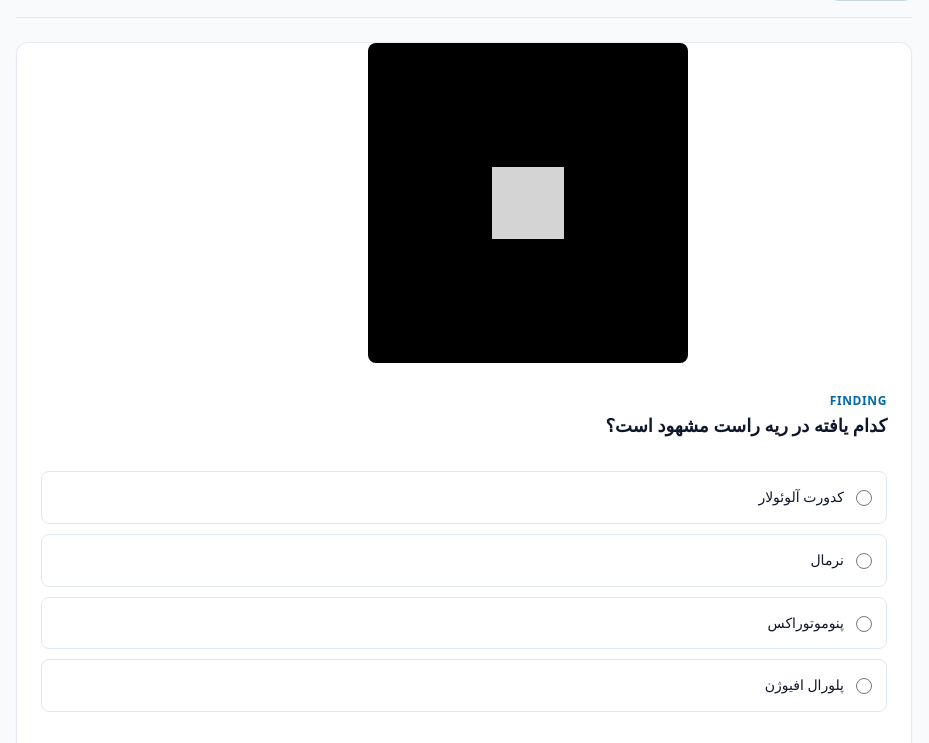
Test: Practice Pages & Workflows (T09b) › PracticeSetPage › supports radio selection, submitting answer, and displaying rationale
Expected: the heading "کدام یافته در ریه راست مشهود است؟" is shown, [605, 413, 887, 437]
Click the radio button labelled "کدورت آلوئولار". click: click(864, 498)
box: [856, 490, 872, 506]
(page scrolled)
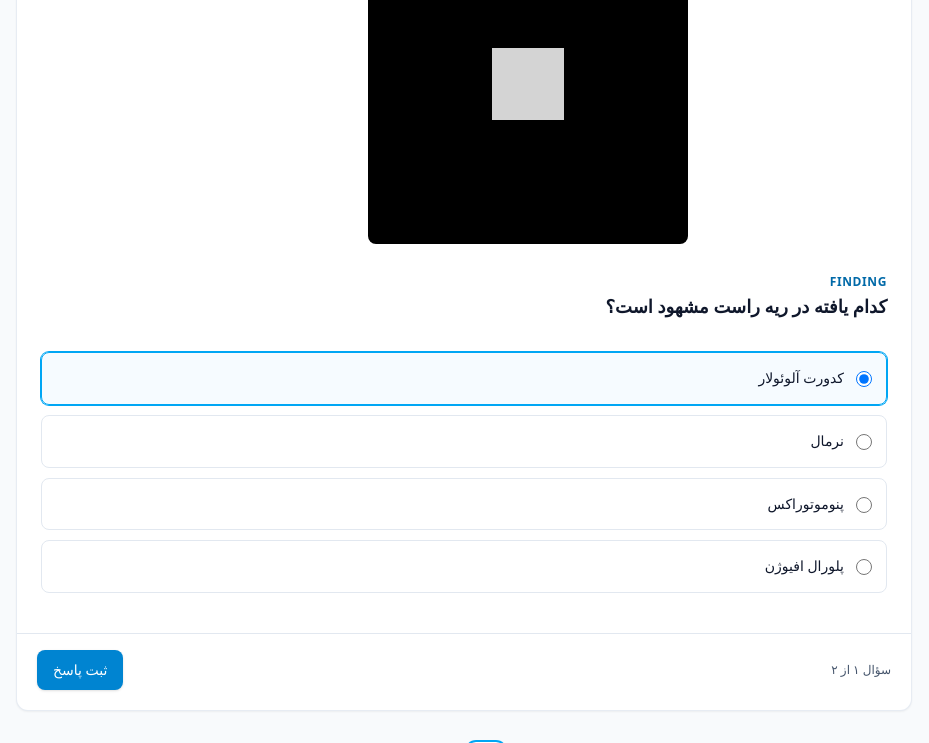
Expected: the button "ثبت پاسخ" is enabled
Click the button "ثبت پاسخ". click: click(80, 670)
box: [37, 650, 124, 690]
(page scrolled)
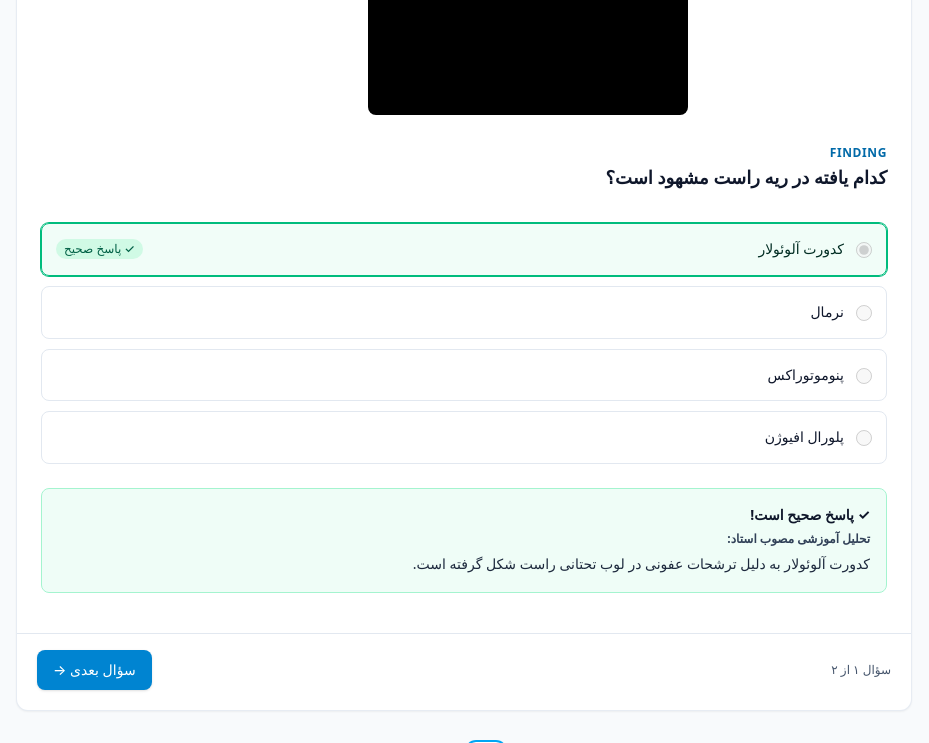
Expected: the text "کدورت آلوئولار به دلیل ترشحات عفونی" is shown, [413, 554, 870, 573]
Expected: the text "✓ پاسخ صحیح است!" is shown, [750, 505, 870, 525]
Expected: the button "سؤال بعدی →" is shown, [37, 650, 152, 690]
